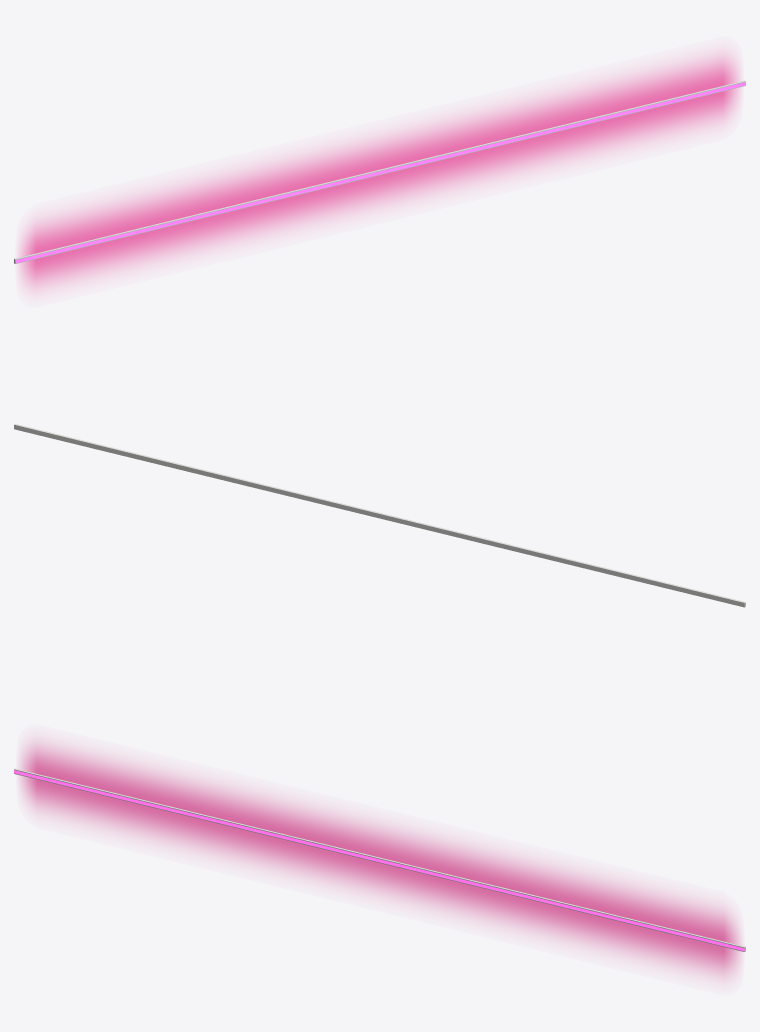
The model's file is obj-led-strip-pink.glb.
3 renders of one model, top to bottom at view 1: azimuth 30°, elevation 25°; view 2: azimuth 150°, elevation 25°; view 3: azimuth 330°, elevation 25°, orthographic.
Parts seen in each view (by area): view 1: obj-led-strip-pink; view 2: obj-led-strip-pink; view 3: obj-led-strip-pink.
Boxes of the visible parts, left/top/right/bottom form: obj-led-strip-pink: left=14, top=51, right=745, bottom=292; obj-led-strip-pink: left=14, top=424, right=745, bottom=607; obj-led-strip-pink: left=14, top=739, right=745, bottom=980.
Bounding box in the file's own units: 2 × 0.3599 × 0.0061.
3 materials, 1 textured.
